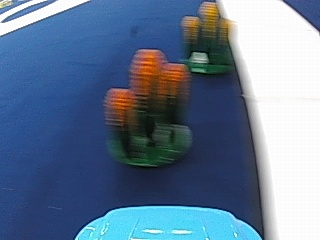corn: (106, 43, 193, 170), (179, 0, 232, 78)
